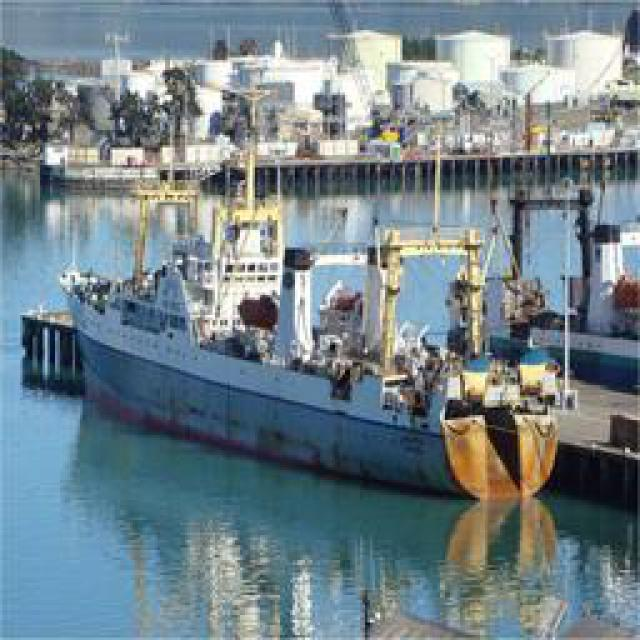Ship: (65, 188, 620, 503)
